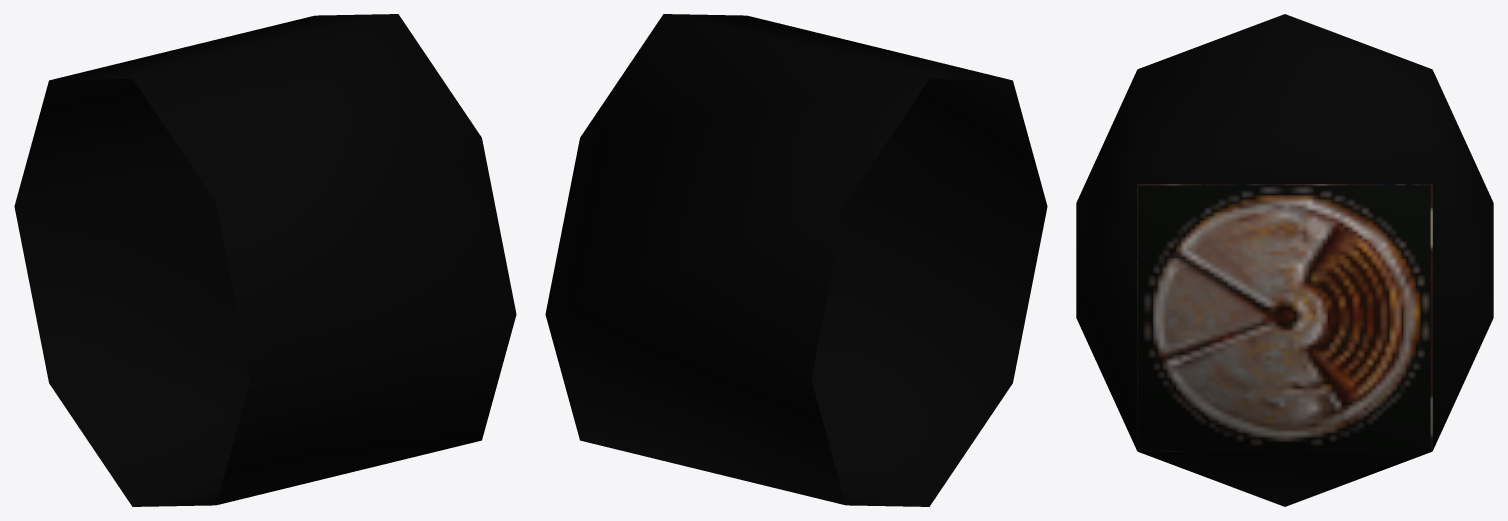
Rendered from WheelFrontL.obj.
3 renders of one model, left to right at view 1: azimuth 30°, elevation 25°; view 2: azimuth 150°, elevation 25°; view 3: azimuth 270°, elevation 25°, orthographic. The views are drawn at different scales.
Visible parts, largest first — view 1: WheelFrontL; view 2: WheelFrontL; view 3: WheelFrontL.
Boxes of the visible parts, x1,y1,x2,y2 form: WheelFrontL: [14, 14, 516, 506]; WheelFrontL: [545, 14, 1047, 506]; WheelFrontL: [1076, 14, 1493, 506].
Size of the model in its own units: 0.6878 by 1.06 by 1.06.
2 materials, 1 textured.
